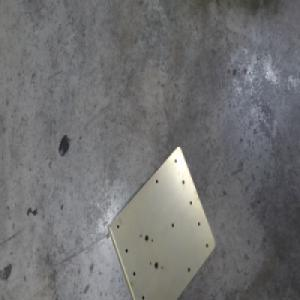MetalSheet: (106, 143, 216, 300)
